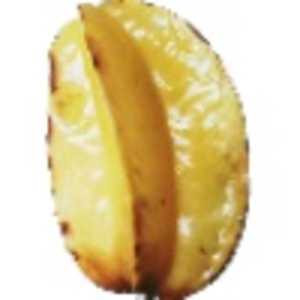carambola: (45, 1, 252, 300)
